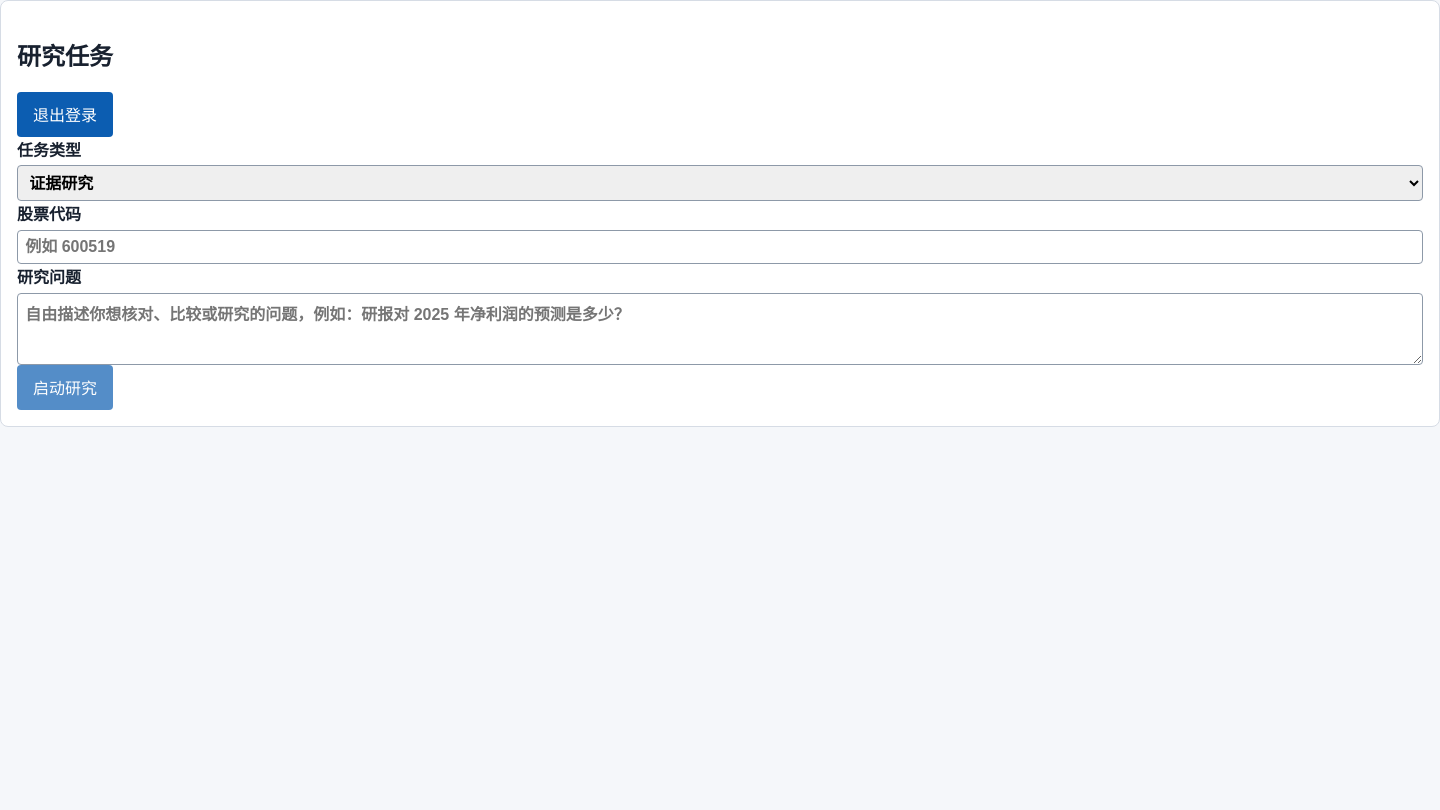
Test: agent run panel › subscribes to SSE immediately after creating a run
The width and height of the screenshot is (1440, 810).
In the field labelled "股票代码": (720, 247) [17,230,1423,264], type "600519"
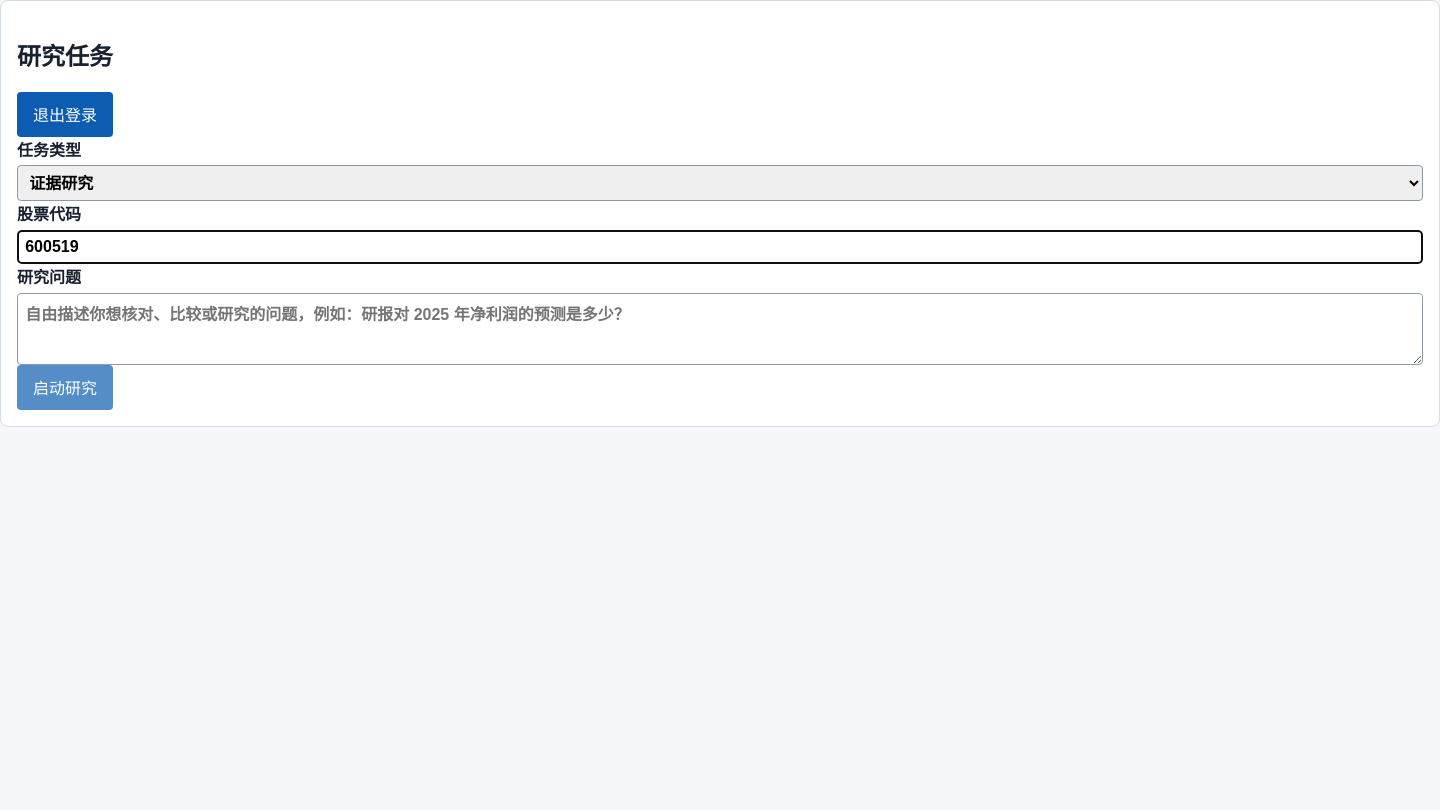
In the text box labelled "研究问题": (720, 329) [17,293,1423,365], type "上证指数走势"
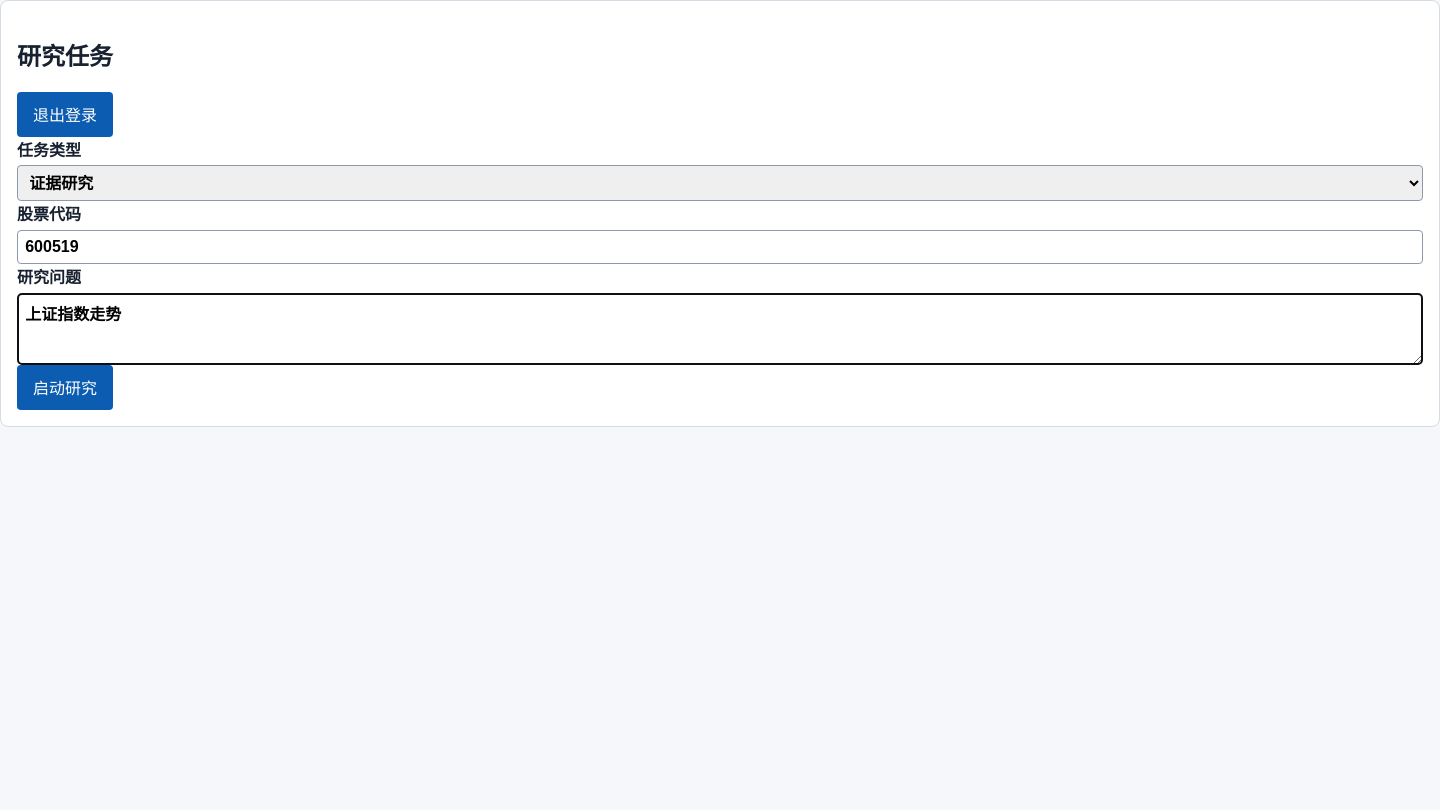
Click the button "启动研究": click(65, 387) [17,365,113,410]
(page scrolled)
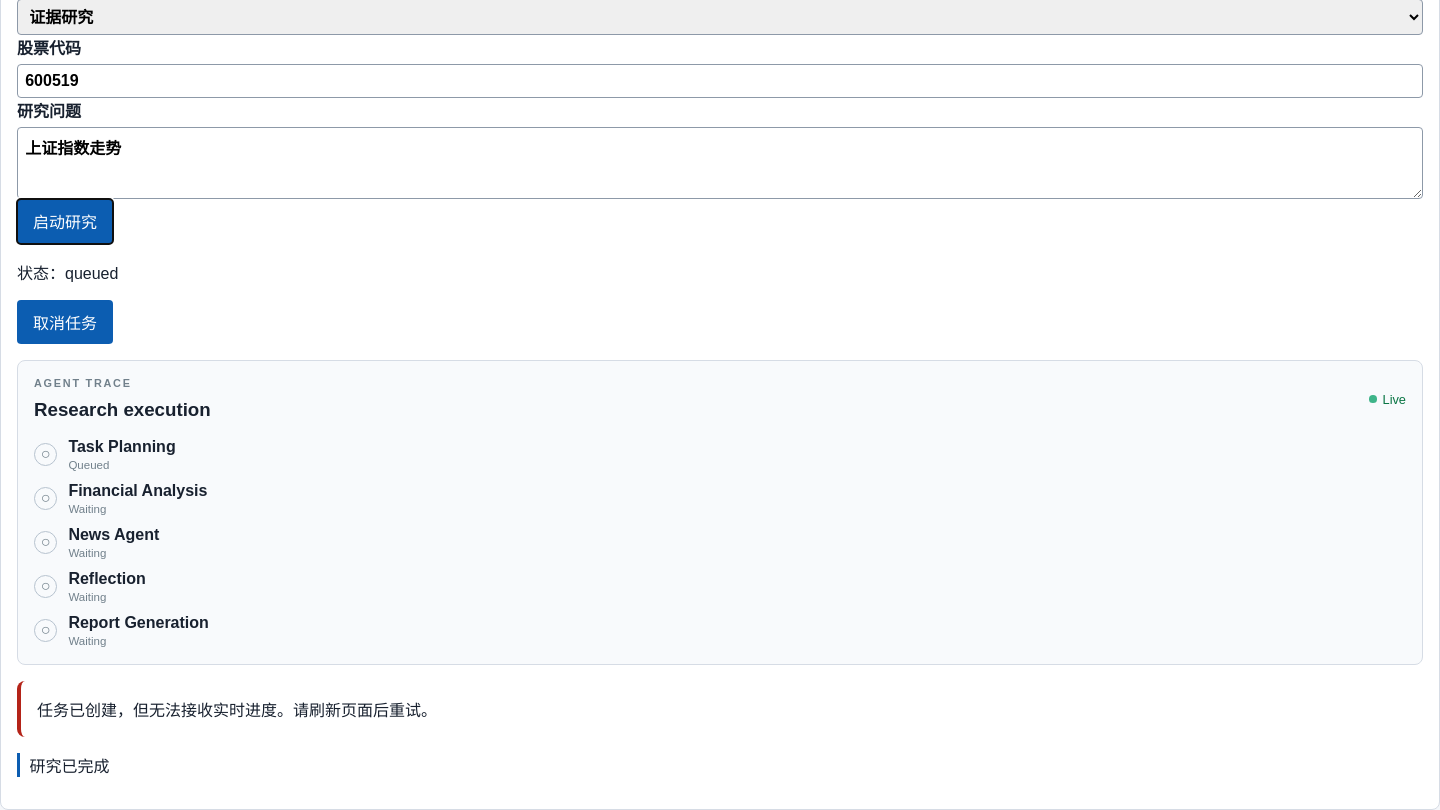
Expected: the text "研究已完成" is shown, [17,753,1423,777]
